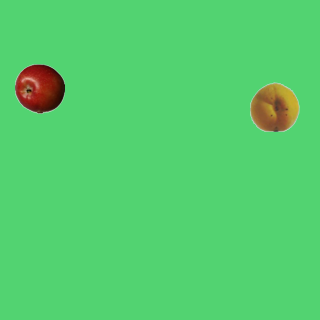Apple Braeburn: (14, 63, 64, 113)
Peach 2: (249, 81, 299, 131)
